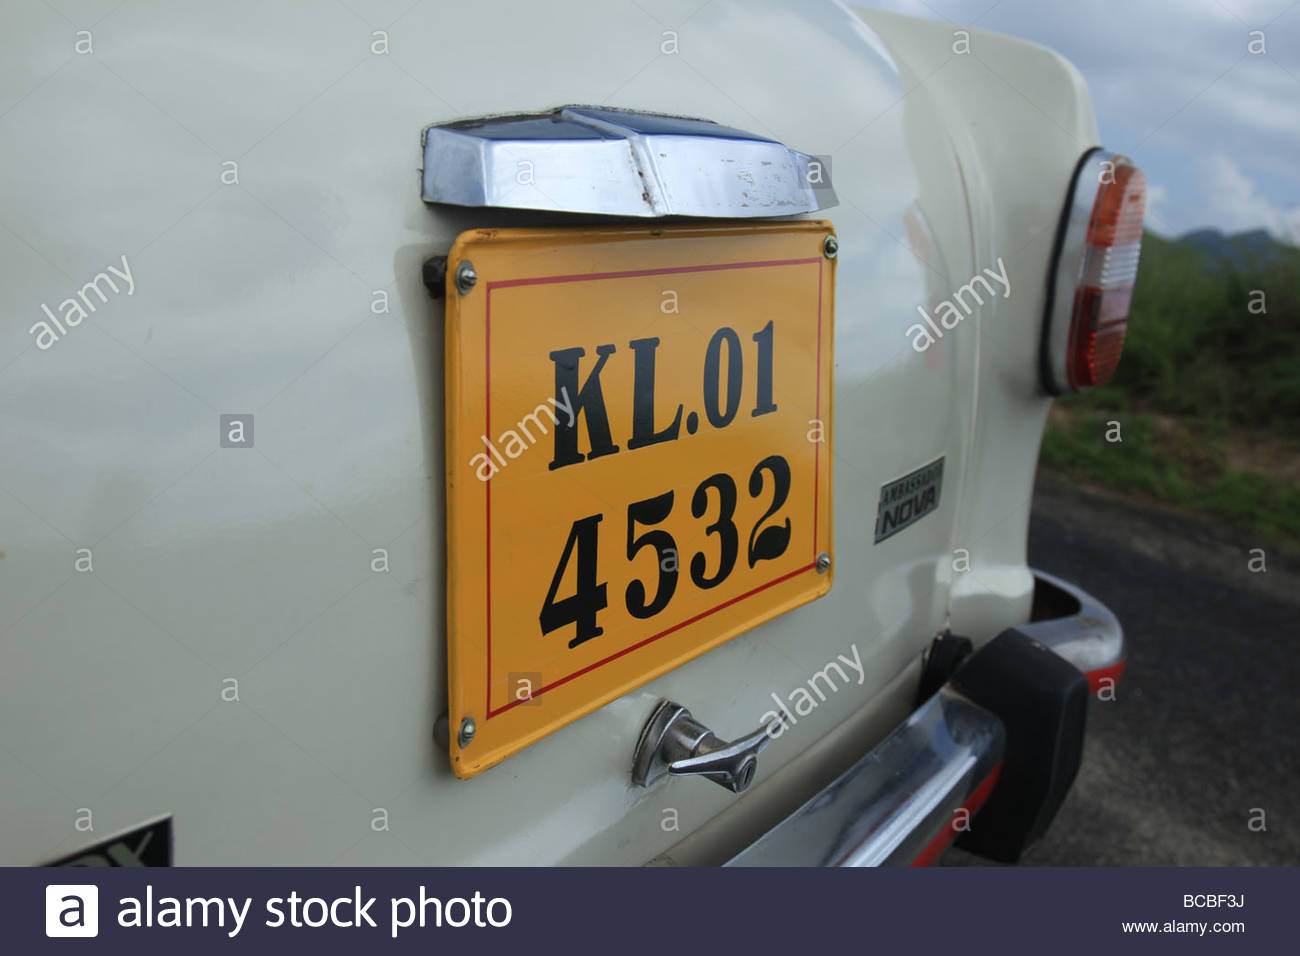number_plate: (436, 222, 843, 715)
